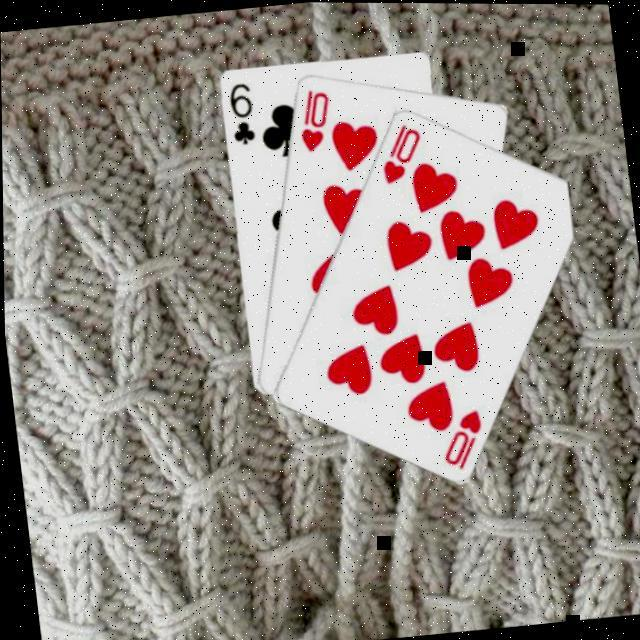10H: (435, 405, 490, 474), (376, 120, 430, 188), (293, 86, 339, 156)
6C: (224, 79, 260, 149)
